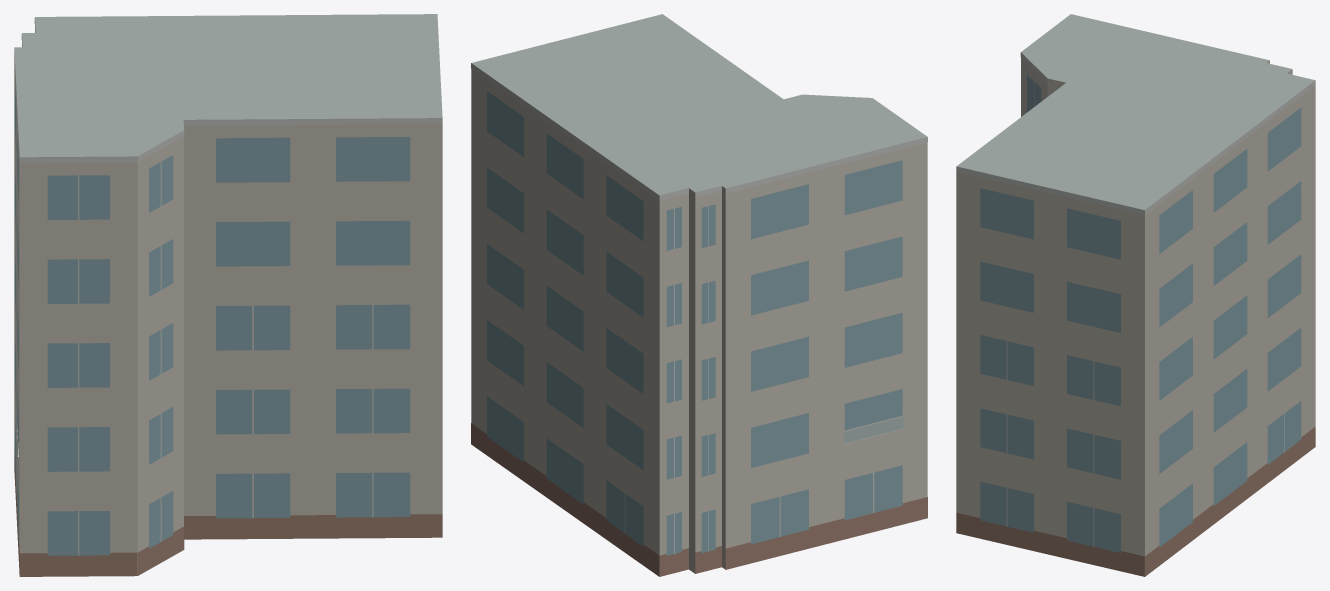
The model's file is survey-upis-32956396.glb.
3 renders of one model, left to right at view 1: azimuth 30°, elevation 25°; view 2: azimuth 150°, elevation 25°; view 3: azimuth 270°, elevation 25°, orthographic. The views are drawn at different scales.
Parts seen in each view (by area): view 1: survey-upis-32956396.tmp; view 2: survey-upis-32956396.tmp; view 3: survey-upis-32956396.tmp.
Boxes of the visible parts, x1,y1,x2,y2 form: survey-upis-32956396.tmp: (14, 14, 442, 576); survey-upis-32956396.tmp: (471, 14, 927, 576); survey-upis-32956396.tmp: (956, 14, 1315, 576).
Bounding box in the file's own units: 19.29 × 16.8 × 14.92.
